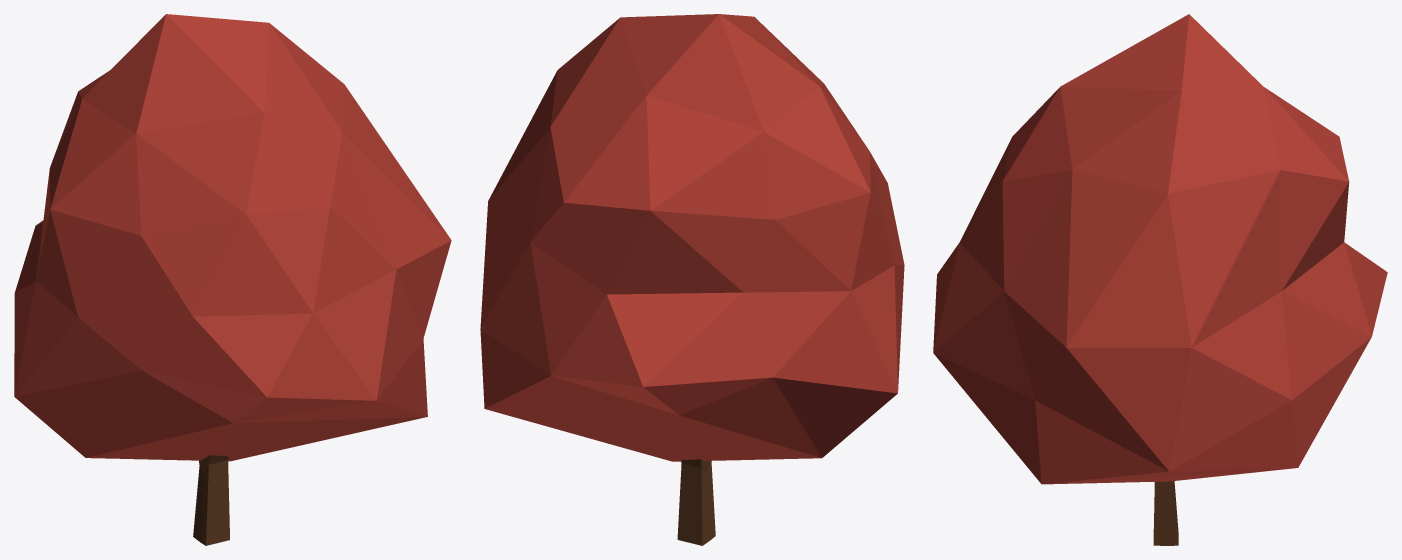
The model's file is Tree_57_Red.fbx.
3 views of the same model, side by side, from view 1: azimuth 30°, elevation 25°; view 2: azimuth 150°, elevation 25°; view 3: azimuth 270°, elevation 25° (orthographic). The views are drawn at different scales.
Parts seen in each view (by area): view 1: Tree_57_Red_Part_1, Tree_57_Red_Part_2; view 2: Tree_57_Red_Part_1, Tree_57_Red_Part_2; view 3: Tree_57_Red_Part_1, Tree_57_Red_Part_2.
Boxes of the visible parts, x1,y1,x2,y2 form: Tree_57_Red_Part_1: [14, 14, 451, 461]; Tree_57_Red_Part_2: [193, 455, 229, 545]; Tree_57_Red_Part_1: [480, 14, 904, 461]; Tree_57_Red_Part_2: [677, 459, 715, 545]; Tree_57_Red_Part_1: [933, 14, 1387, 484]; Tree_57_Red_Part_2: [1153, 481, 1178, 545].
Bounding box in the file's own units: 643 × 801 × 647.
